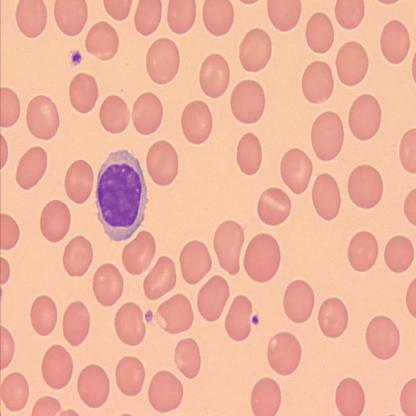Lymphocyte: (94, 148, 148, 242)
